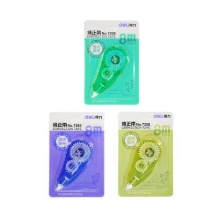book: (46, 110, 107, 199), (115, 109, 175, 198), (81, 19, 141, 105)
correction_fluid: (88, 43, 131, 99), (52, 137, 93, 192), (122, 137, 163, 192)
